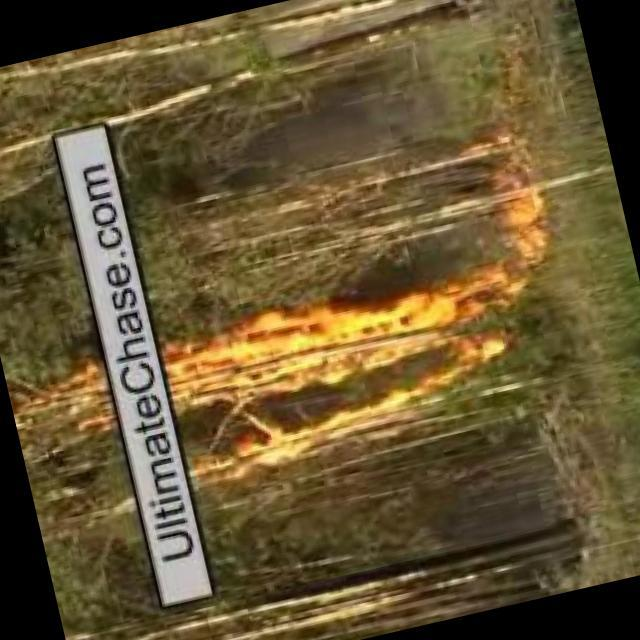Fire: (159, 260, 539, 485), (13, 360, 121, 451), (496, 161, 562, 281)
